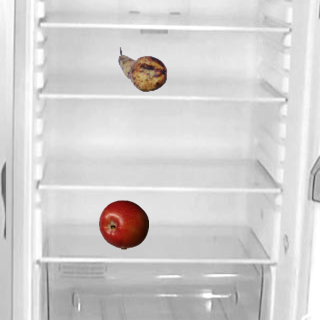Apple Braeburn: (98, 199, 148, 249)
Pear Abate: (117, 44, 167, 94)
